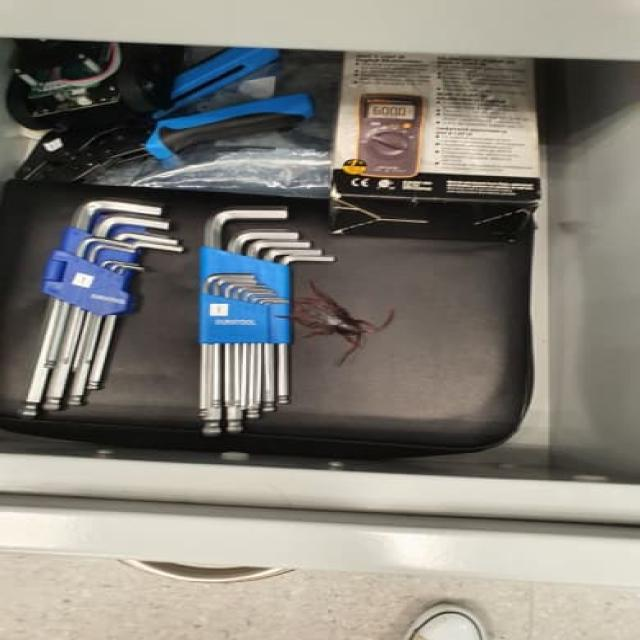Cockroach: (272, 277, 400, 363)
